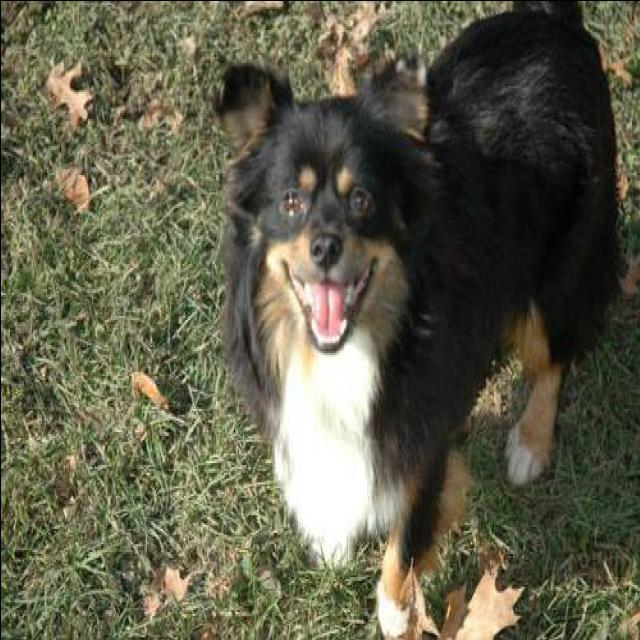dog: (226, 0, 628, 640)
